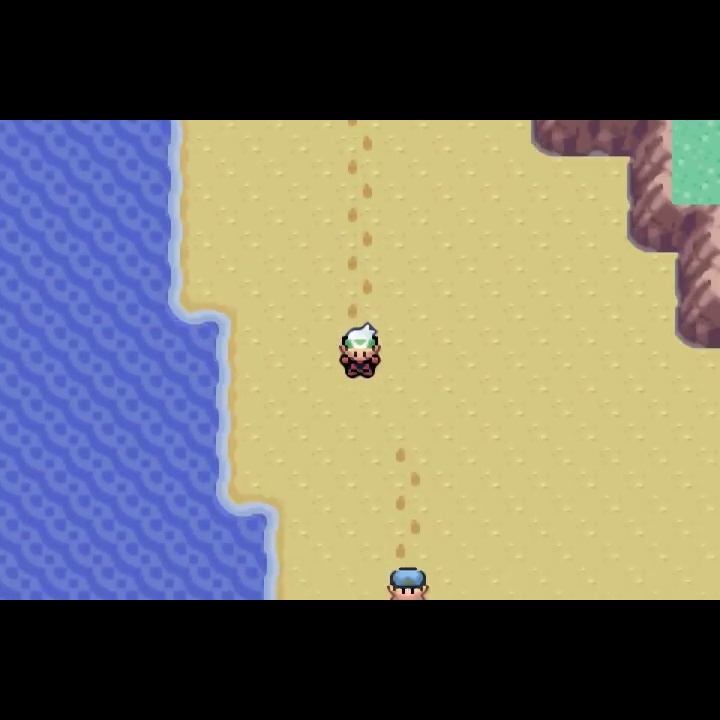npc: (337, 321, 383, 382)
